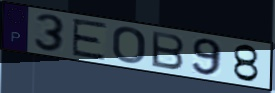3: (32, 13, 68, 54)
8: (233, 43, 261, 83)
9: (191, 37, 224, 78)
B: (150, 29, 187, 71)
E: (70, 17, 109, 61)
O: (111, 26, 148, 65)
